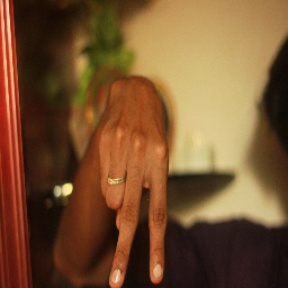Y: (90, 124, 176, 288)
